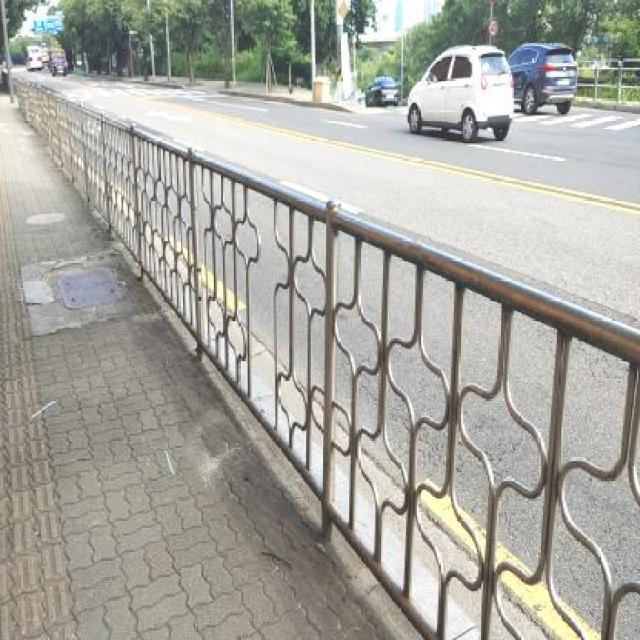fence: (100, 106, 640, 640), (170, 152, 397, 552)
